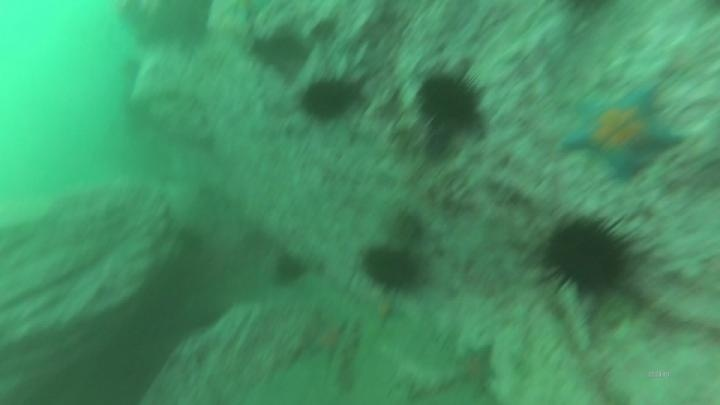echinus: (538, 210, 635, 300), (413, 65, 487, 135), (359, 242, 426, 295), (297, 73, 363, 125), (252, 28, 312, 76), (386, 207, 428, 247), (270, 250, 309, 288)
holothurian: (330, 317, 366, 396)
starfish: (560, 83, 687, 183), (451, 340, 499, 394), (305, 312, 351, 366), (364, 288, 408, 331)
